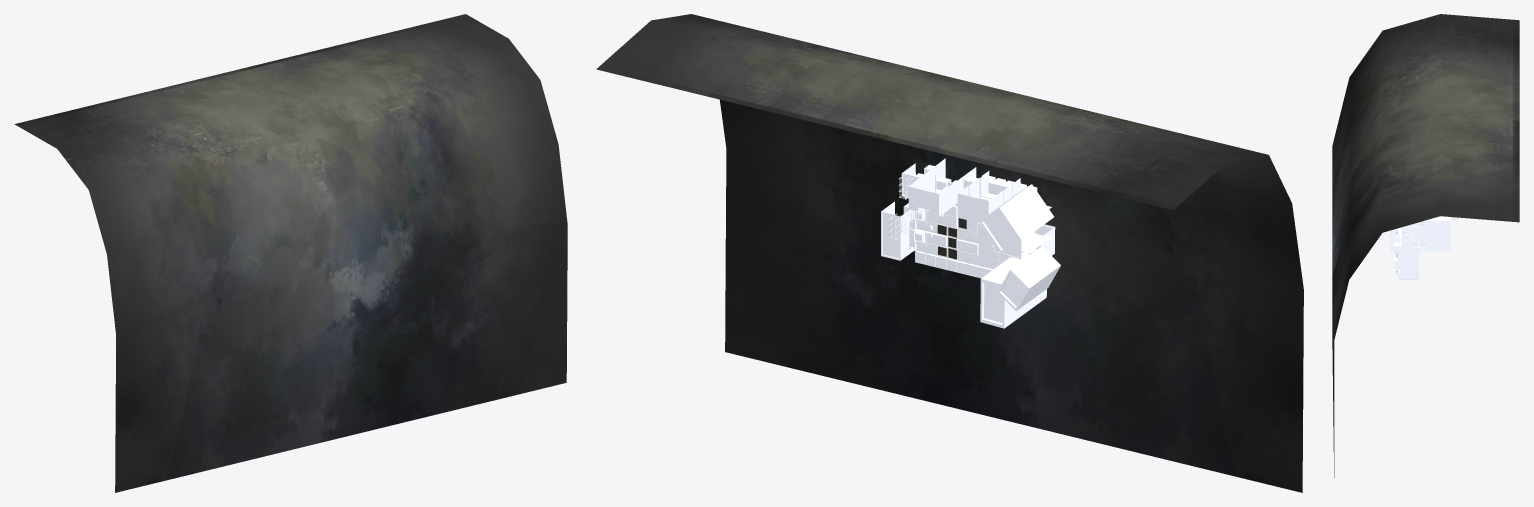
Rendered from BATTLE.fbx.
The picture shows the model from 3 angles, left to right: view 1: azimuth 30°, elevation 25°; view 2: azimuth 150°, elevation 25°; view 3: azimuth 270°, elevation 25°; orthographic projection. The views are drawn at different scales.
Visible parts, largest first — view 1: BG_Qcity; view 2: BG_Qcity, Shadow (1), Shadow (3), Shadow (4), S_export_cube144, S_Outworld_prop_0374, S_export_cube0; view 3: BG_Qcity, Shadow (4), S_export_cube0.
Boxes of the visible parts, box(x1,y1,x2,y2) form: BG_Qcity: box(14, 14, 567, 492); BG_Qcity: box(596, 14, 1303, 492); Shadow (1): box(979, 184, 1053, 253); Shadow (3): box(997, 246, 1060, 311); Shadow (4): box(980, 254, 1046, 328); S_export_cube144: box(908, 158, 976, 216); S_Outworld_prop_0374: box(957, 171, 1020, 220); S_export_cube0: box(881, 201, 914, 260); BG_Qcity: box(1332, 14, 1519, 477); Shadow (4): box(1390, 216, 1450, 251); S_export_cube0: box(1399, 241, 1419, 279).
Bounding box in the file's own units: 0.5573 × 0.3558 × 0.2179.
